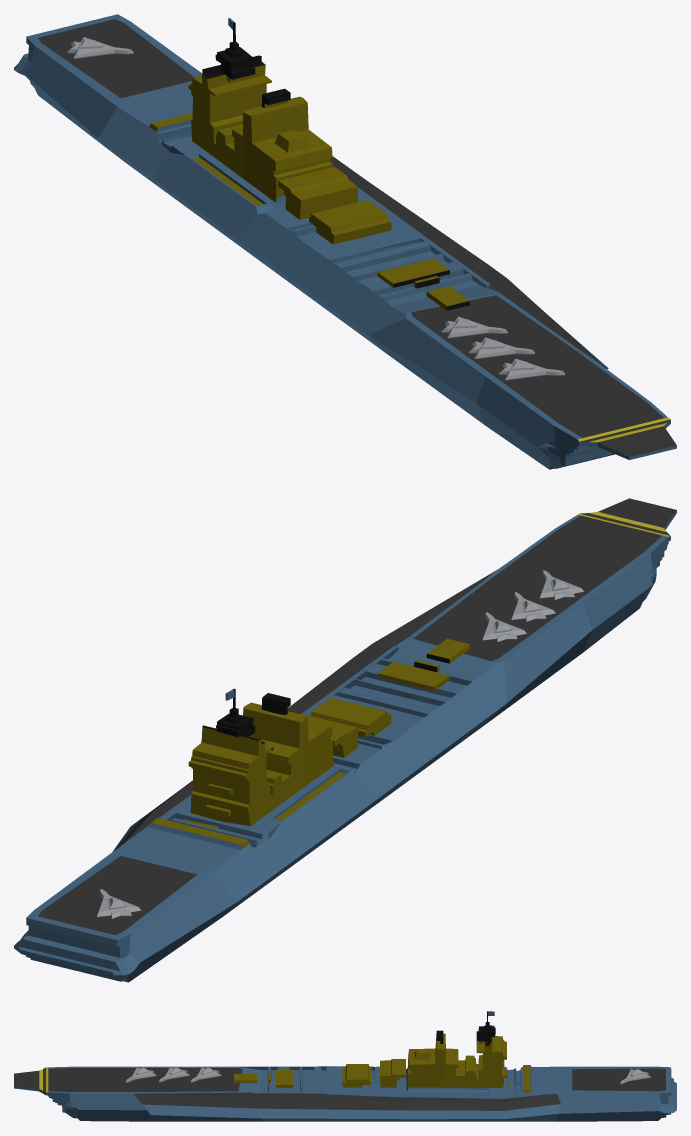
File: Carrier v9.fbx
3 renders of one model, top to bottom at view 1: azimuth 30°, elevation 25°; view 2: azimuth 150°, elevation 25°; view 3: azimuth 270°, elevation 25°, orthographic. The views are drawn at different scales.
Parts seen in each view (by area): view 1: CarrierV3; view 2: CarrierV3; view 3: CarrierV3.
Part boxes in pixels (x1,y1,x2,y2): CarrierV3: [14, 14, 676, 469]; CarrierV3: [14, 498, 676, 982]; CarrierV3: [14, 1011, 676, 1121].
Bounding box in the file's own units: 131 × 136 × 838.
